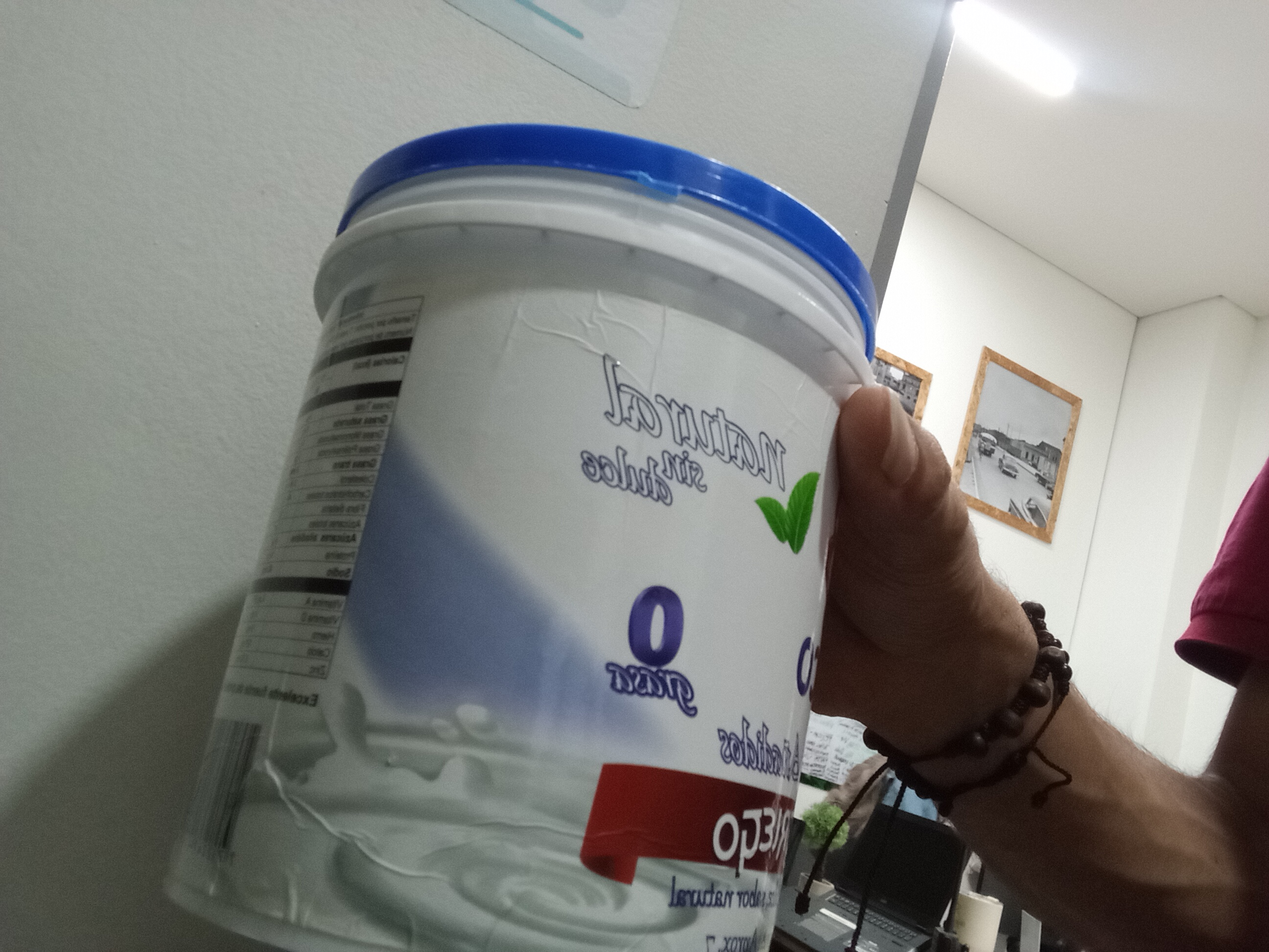Plastico: (163, 125, 877, 952)
